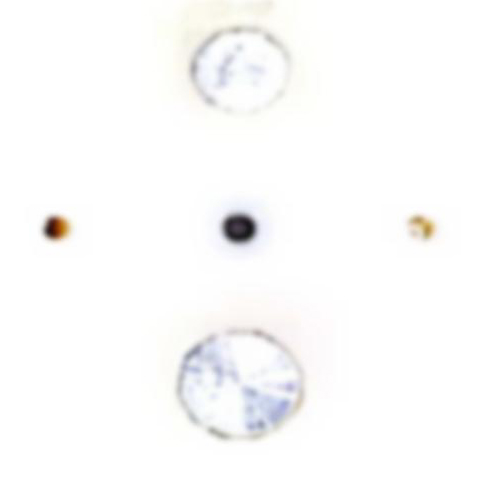abnormal: (157, 300, 339, 462), (165, 8, 311, 130)
cancer: (205, 190, 289, 266)
normal: (19, 197, 85, 257), (397, 202, 452, 252)
